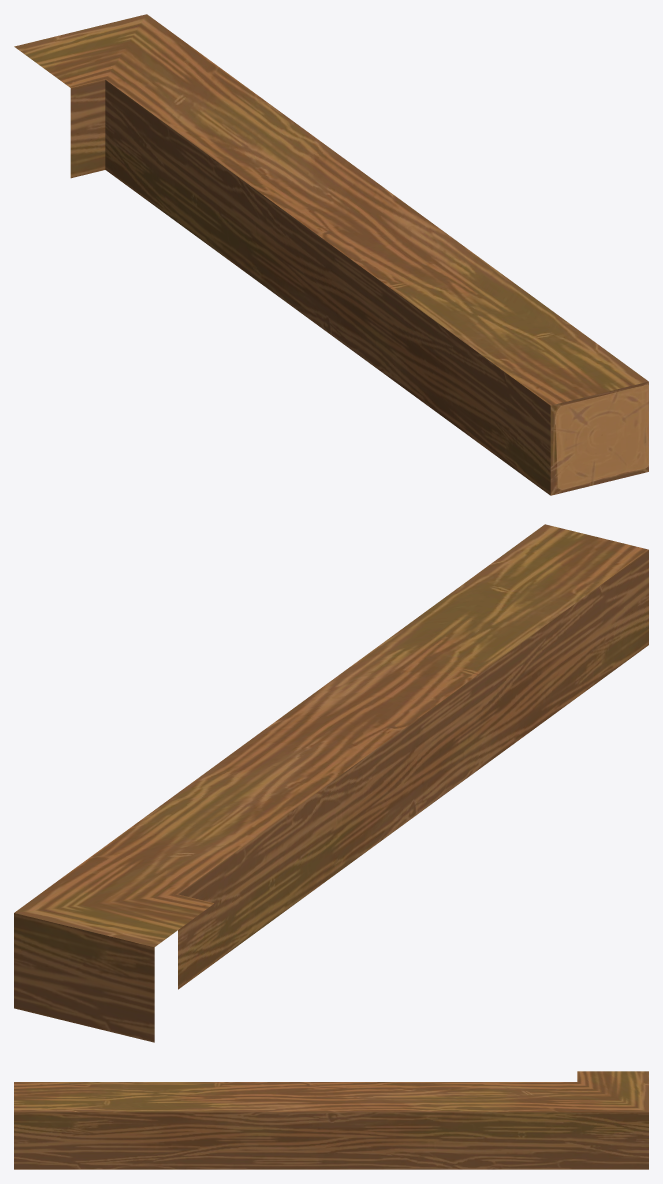
The model's file is holecover-90stairs.glb.
The picture shows the model from 3 angles, top to bottom: view 1: azimuth 30°, elevation 25°; view 2: azimuth 150°, elevation 25°; view 3: azimuth 270°, elevation 25°; orthographic projection. The views are drawn at different scales.
Parts seen in each view (by area): view 1: HoleCover_90Stairs; view 2: HoleCover_90Stairs; view 3: HoleCover_90Stairs.
Part boxes in pixels (x1=…): HoleCover_90Stairs: x1=14, y1=14, x2=648, y2=495; HoleCover_90Stairs: x1=14, y1=524, x2=648, y2=1042; HoleCover_90Stairs: x1=14, y1=1071, x2=648, y2=1169.
Size of the model in its own units: 0.3242 by 0.2102 by 2.12.
1 material, 1 textured.
